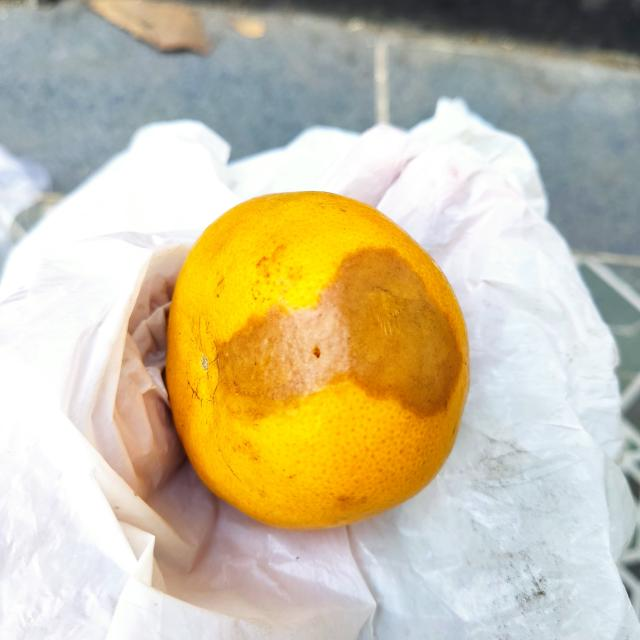orange: (170, 189, 471, 533)
